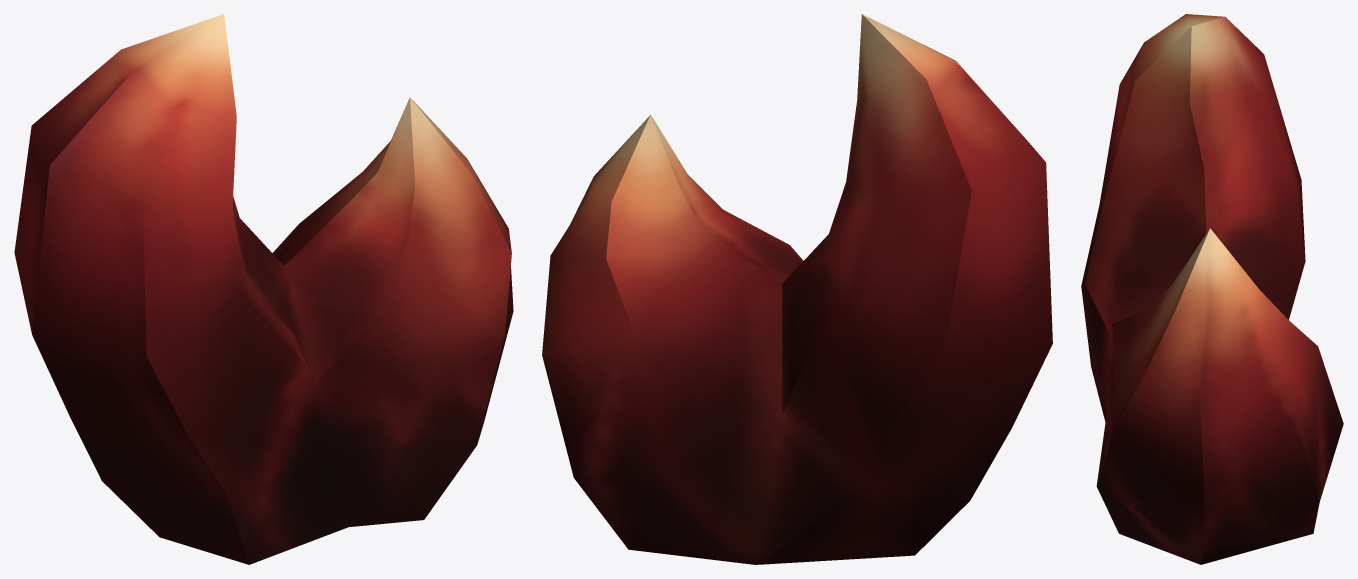
File: ClawStone.fbx
3 renders of one model, left to right at view 1: azimuth 30°, elevation 25°; view 2: azimuth 150°, elevation 25°; view 3: azimuth 270°, elevation 25°, orthographic. The views are drawn at different scales.
Visible parts, largest first — view 1: ClawStone_Model; view 2: ClawStone_Model; view 3: ClawStone_Model.
Part boxes in pixels (<box>): ClawStone_Model: <box>14,14,513,564</box>; ClawStone_Model: <box>542,14,1052,564</box>; ClawStone_Model: <box>1081,14,1343,564</box>.
Bounding box in the file's own units: 225 × 227 × 123.
1 material, 1 textured.
